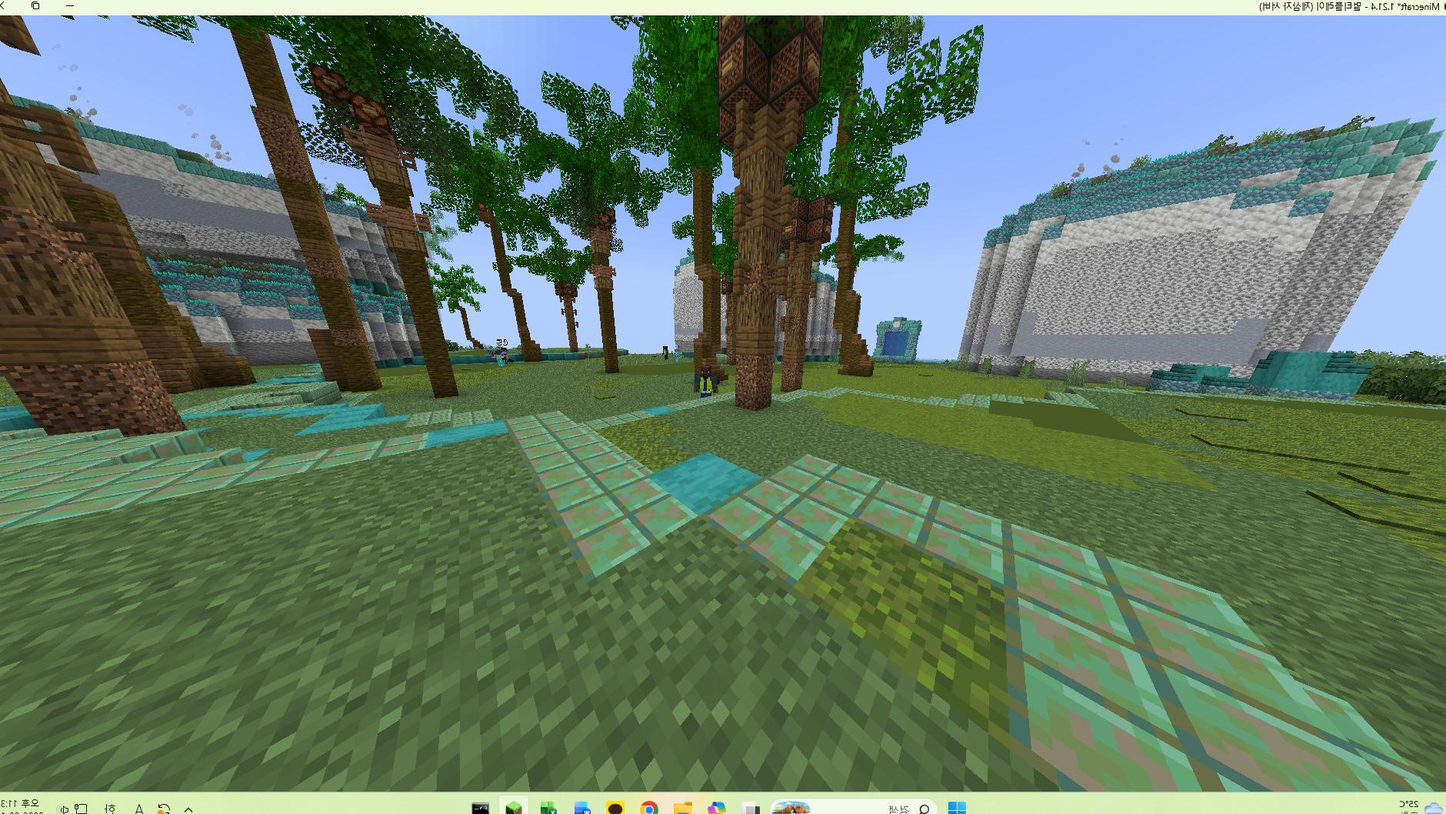Guardian: (695, 363, 724, 406)
